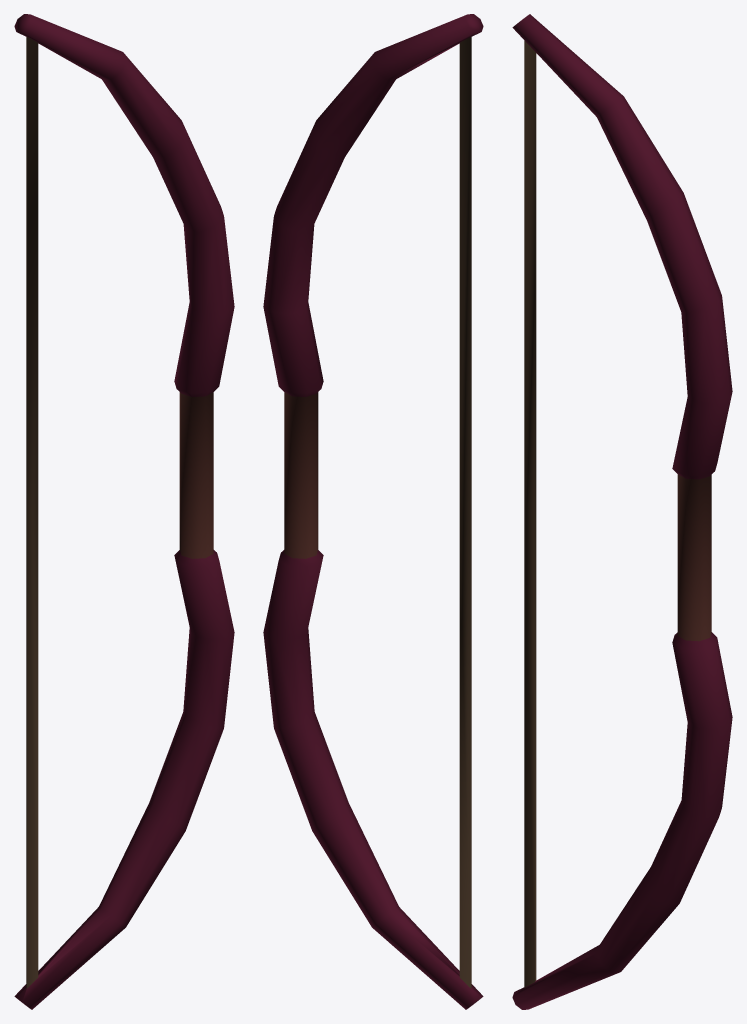
The model's file is PickupWeaponBowRecurve.dae.
The picture shows the model from 3 angles, left to right: view 1: azimuth 30°, elevation 25°; view 2: azimuth 150°, elevation 25°; view 3: azimuth 330°, elevation 25°; orthographic projection.
Visible parts, largest first — view 1: PickupWeaponBowRecurve; view 2: PickupWeaponBowRecurve; view 3: PickupWeaponBowRecurve.
Part boxes in pixels (x1,y1,x2,y2): PickupWeaponBowRecurve: (14, 14, 234, 1009); PickupWeaponBowRecurve: (263, 14, 483, 1009); PickupWeaponBowRecurve: (512, 14, 732, 1009).
Bounding box in the file's own units: 0.2903 × 0.0545 × 1.28.
